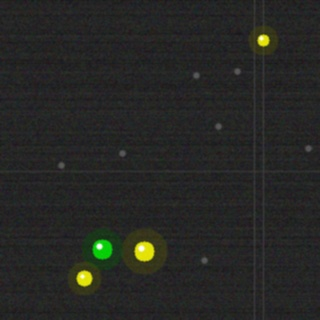green_normal: (90, 237, 114, 261)
yellow_warning: (132, 239, 156, 263), (74, 268, 94, 288), (255, 32, 271, 48)
